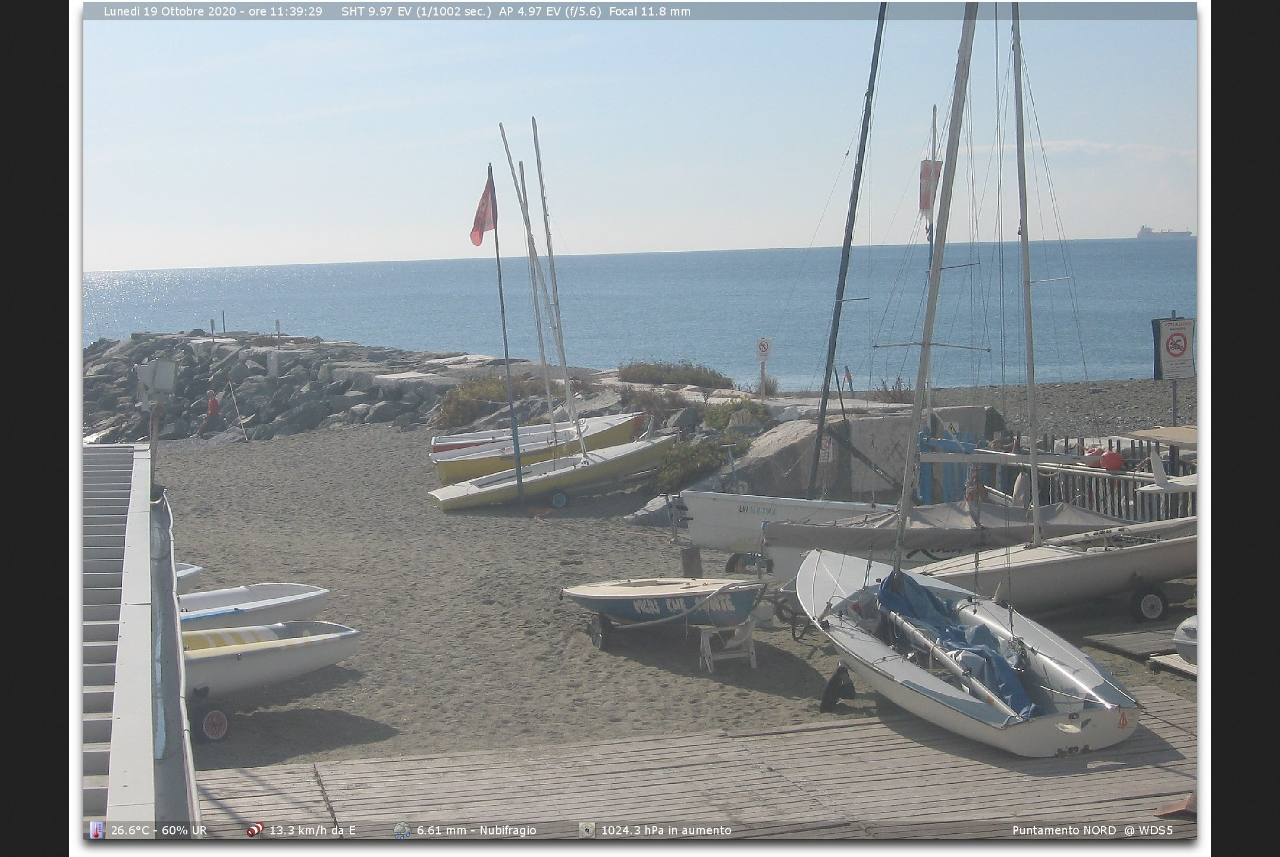no: (465, 161, 500, 253)
